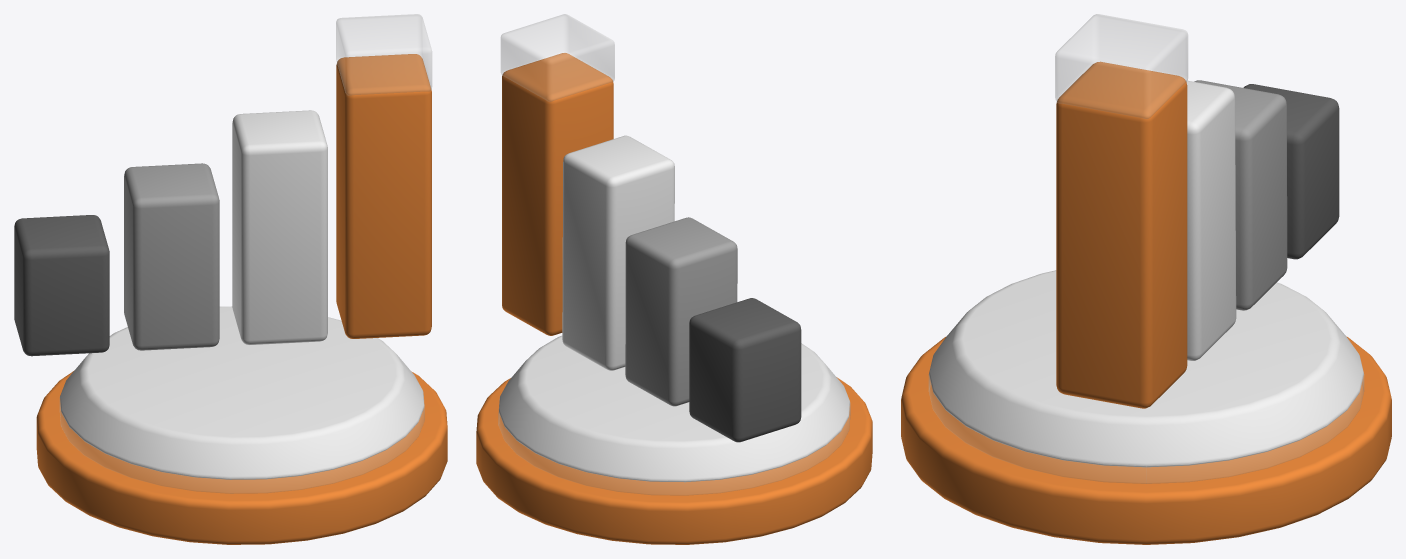
3 views of the same model, side by side, from view 1: azimuth 30°, elevation 25°; view 2: azimuth 150°, elevation 25°; view 3: azimuth 270°, elevation 25° (orthographic). The views are drawn at different scales.
Parts seen in each view (by area): view 1: Cylinder.021, Bar Graph, Cube.054, Cube.051, Cube.053, Cube.052, Cube.039, Cylinder.023; view 2: Bar Graph, Cylinder.021, Cube.054, Cube.051, Cube.053, Cube.052, Cube.039, Cylinder.023; view 3: Cylinder.021, Cube.054, Bar Graph, Cube.051, Cube.039, Cube.053, Cube.052, Cylinder.023.
Part boxes in pixels (x1,y1,x2,y2): Cylinder.021: [60, 306, 424, 479]; Bar Graph: [36, 370, 447, 544]; Cube.054: [336, 54, 431, 338]; Cube.051: [232, 110, 327, 344]; Cube.053: [124, 163, 219, 350]; Cube.052: [14, 215, 109, 356]; Cube.039: [336, 14, 432, 95]; Cylinder.023: [59, 392, 424, 493]; Bar Graph: [476, 377, 872, 544]; Cylinder.021: [499, 335, 849, 482]; Cube.054: [502, 53, 613, 335]; Cube.051: [562, 135, 674, 370]; Cube.053: [625, 217, 737, 406]; Cube.052: [689, 298, 801, 442]; Cube.039: [500, 14, 614, 101]; Cylinder.023: [498, 398, 850, 495]; Cylinder.021: [929, 270, 1363, 467]; Cube.054: [1056, 61, 1187, 408]; Bar Graph: [901, 336, 1391, 544]; Cube.051: [1186, 80, 1236, 360]; Cube.039: [1055, 14, 1188, 118]; Cube.053: [1194, 80, 1287, 310]; Cube.052: [1243, 84, 1339, 259]; Cylinder.023: [928, 358, 1364, 483].
Size of the model in its own units: 4.2 by 4.51 by 4.18.
